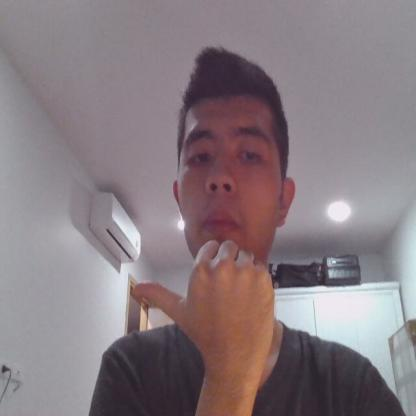right: (128, 239, 274, 365)
